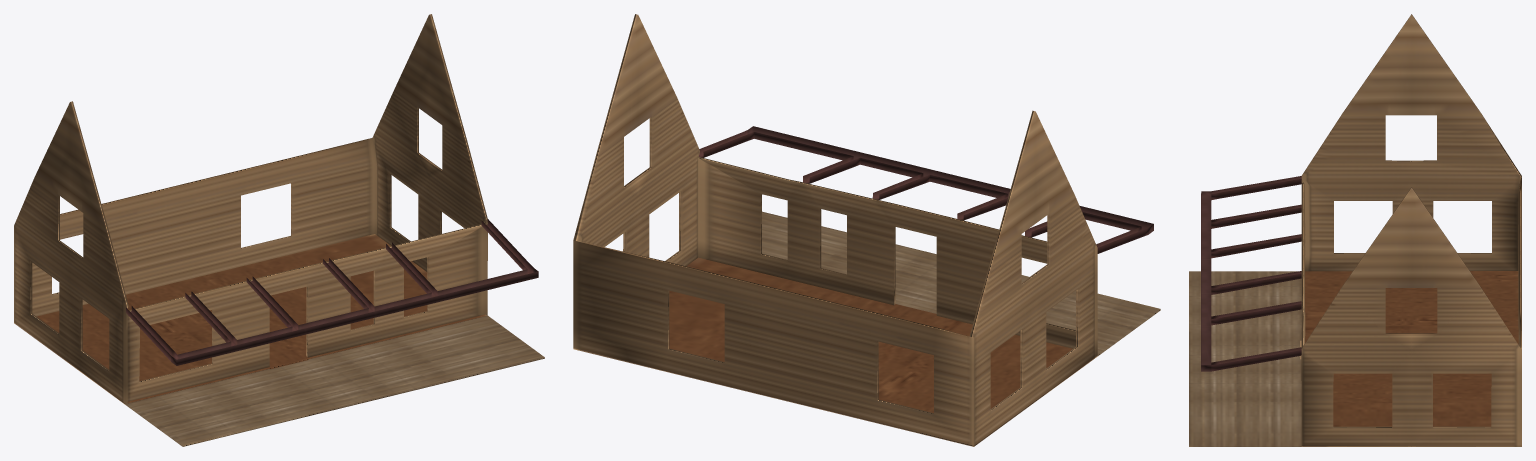
The model's file is house.fbx.
3 renders of one model, left to right at view 1: azimuth 30°, elevation 25°; view 2: azimuth 150°, elevation 25°; view 3: azimuth 270°, elevation 25°, orthographic. The views are drawn at different scales.
Visible parts, largest first — view 1: House01; view 2: House01; view 3: House01.
Boxes of the visible parts, x1,y1,x2,y2 form: House01: (14, 14, 544, 446); House01: (573, 14, 1160, 446); House01: (1189, 14, 1521, 446).
Bounding box in the file's own units: 1183 × 819 × 954.
Materials: 1 (1 with a texture image).
